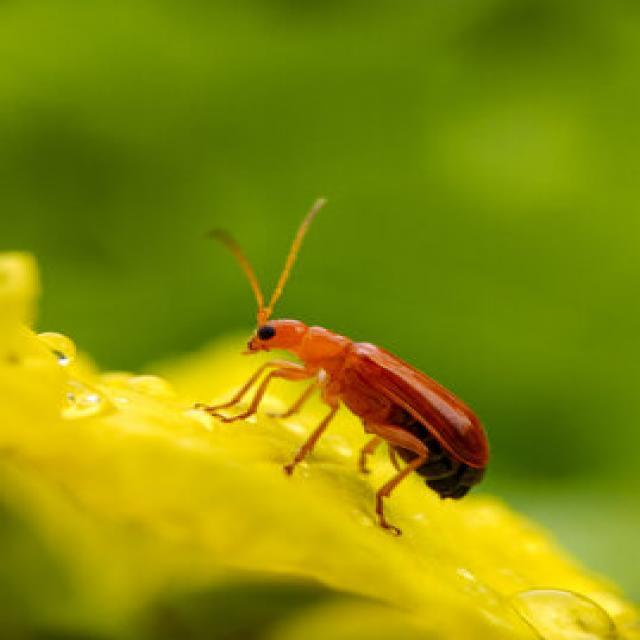Pumpkin Beetle: (189, 189, 495, 542)
